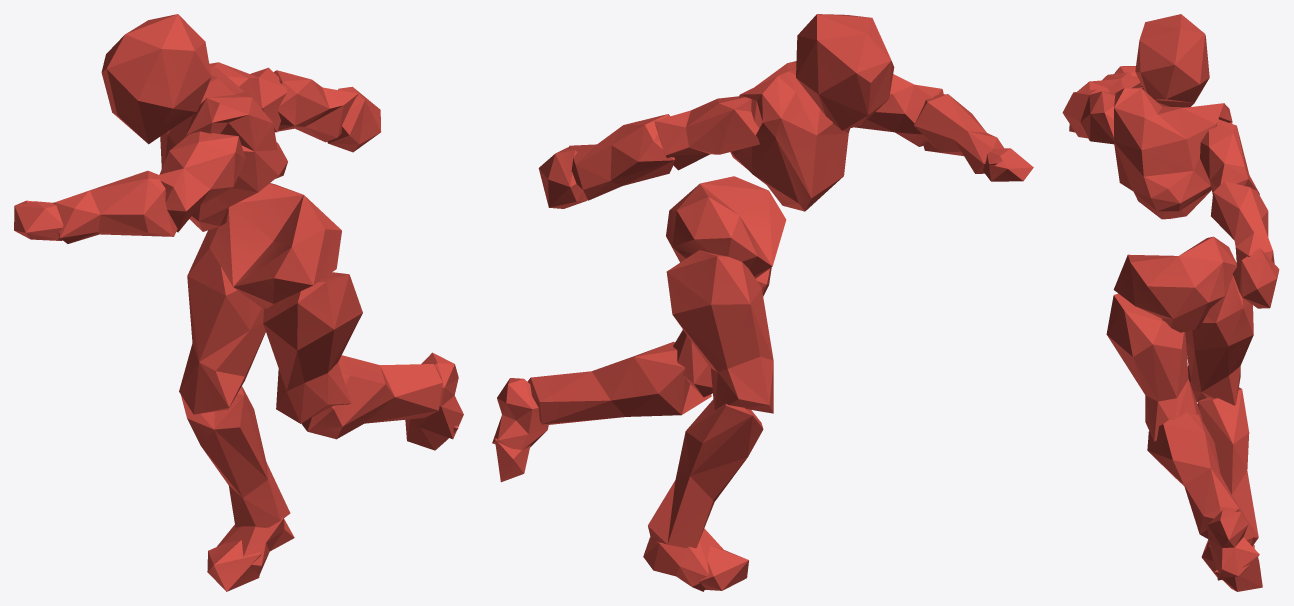
The model's file is 2dancer0193.obj.
3 renders of one model, left to right at view 1: azimuth 30°, elevation 25°; view 2: azimuth 150°, elevation 25°; view 3: azimuth 270°, elevation 25°, orthographic. The views are drawn at different scales.
Visible parts, largest first — view 1: Beta_Surface; view 2: Beta_Surface; view 3: Beta_Surface.
Boxes of the visible parts, x1,y1,x2,y2 form: Beta_Surface: [14, 14, 463, 591]; Beta_Surface: [492, 14, 1033, 591]; Beta_Surface: [1062, 14, 1279, 591].
Size of the model in its own units: 1.48 by 1.71 by 0.6634.
